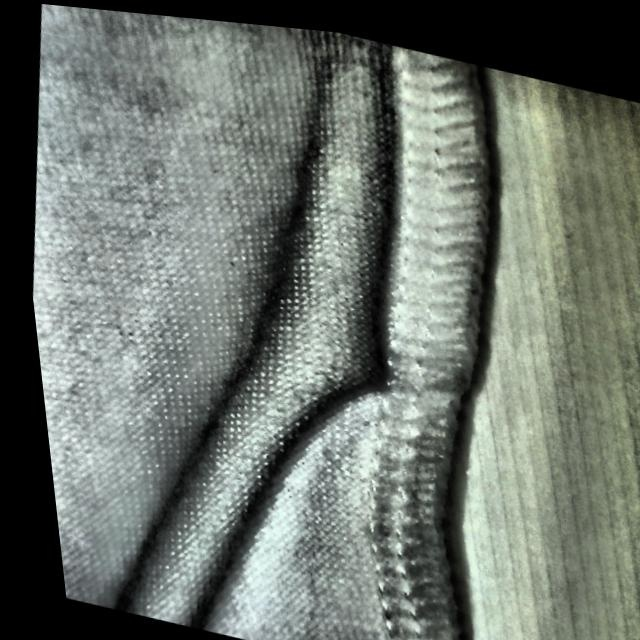seam: (219, 209, 519, 498)
